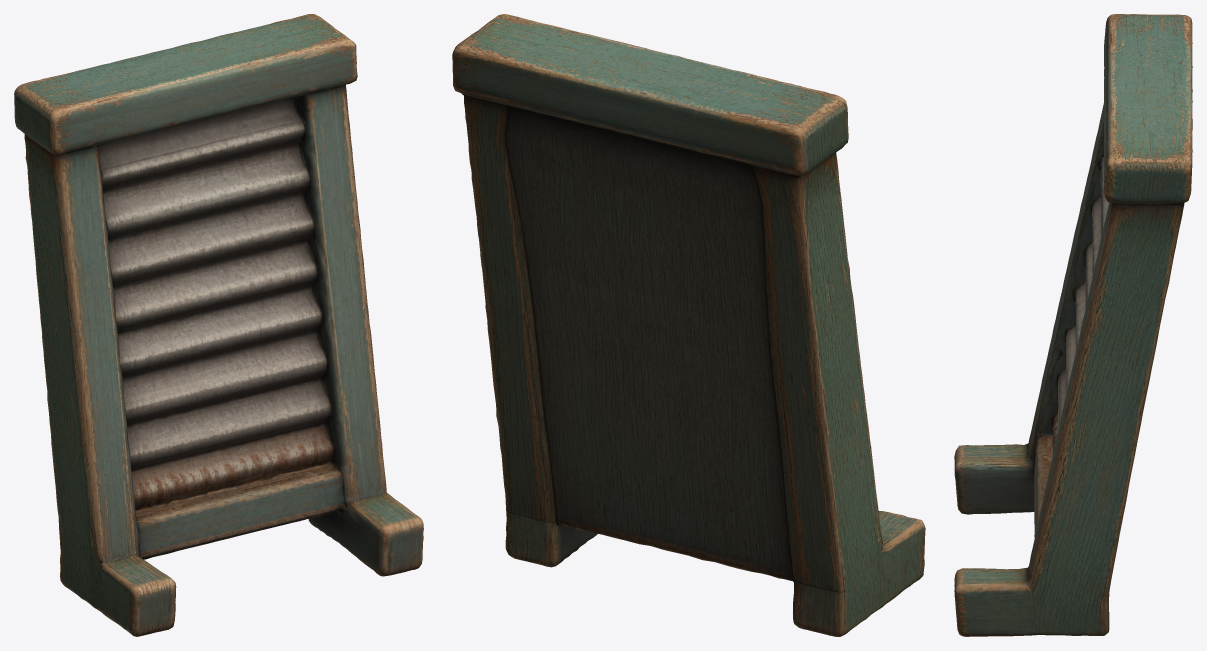
File: Prop_Washboard.fbx
3 views of the same model, side by side, from view 1: azimuth 30°, elevation 25°; view 2: azimuth 150°, elevation 25°; view 3: azimuth 270°, elevation 25° (orthographic). The views are drawn at different scales.
Parts seen in each view (by area): view 1: texture_mapping; view 2: texture_mapping; view 3: texture_mapping.
Part boxes in pixels (left/top/right/bottom): texture_mapping: left=14, top=14, right=423, bottom=636; texture_mapping: left=452, top=14, right=925, bottom=636; texture_mapping: left=954, top=14, right=1192, bottom=636.
Bounding box in the file's own units: 0.6747 × 0.4475 × 1.
1 material, 1 textured.
